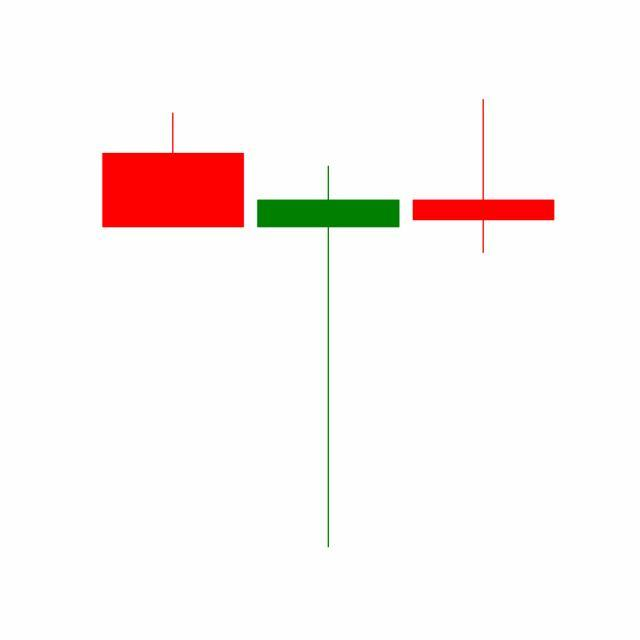Spinning Top: (406, 98, 562, 256)
